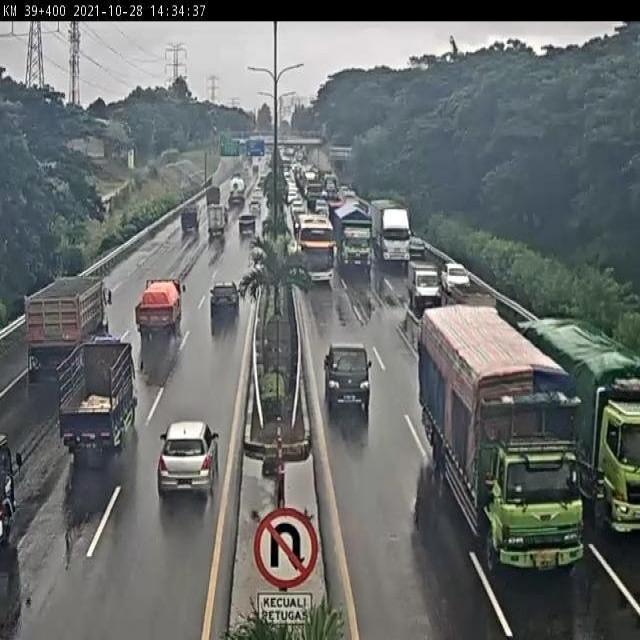big bus: (292, 211, 337, 280)
big truck: (418, 304, 579, 572), (517, 317, 640, 532), (371, 199, 409, 265), (335, 205, 373, 271)
car: (156, 419, 220, 497), (323, 341, 372, 412), (409, 260, 443, 312), (209, 281, 242, 320), (442, 261, 471, 295), (180, 201, 201, 231), (234, 217, 253, 240)
small truck: (56, 333, 139, 458), (23, 272, 116, 383), (132, 276, 187, 337), (207, 204, 226, 237)
